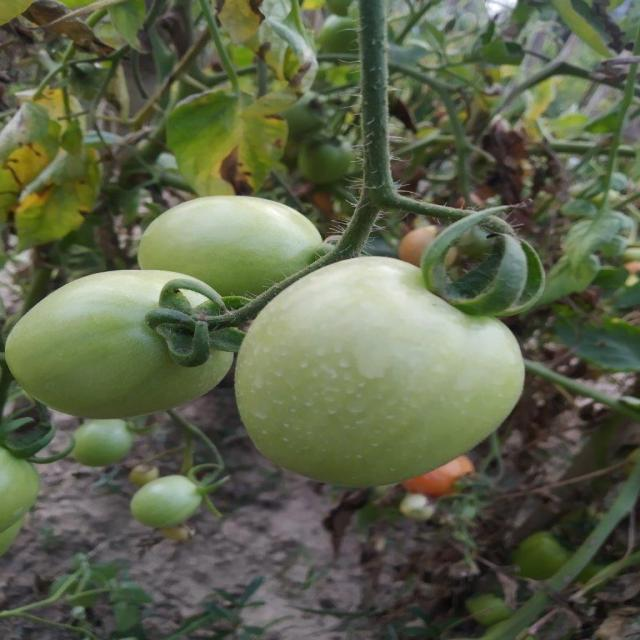Unripe: (230, 254, 530, 491), (4, 270, 234, 419), (137, 193, 334, 302)
